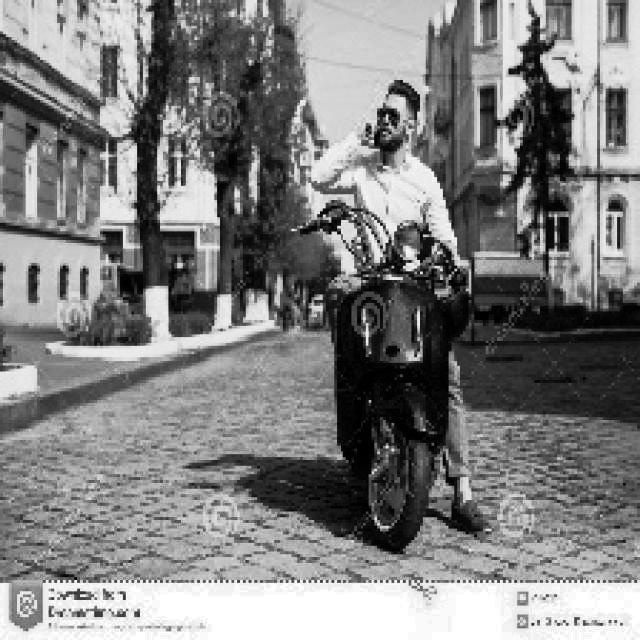Bike: (316, 201, 456, 545)
